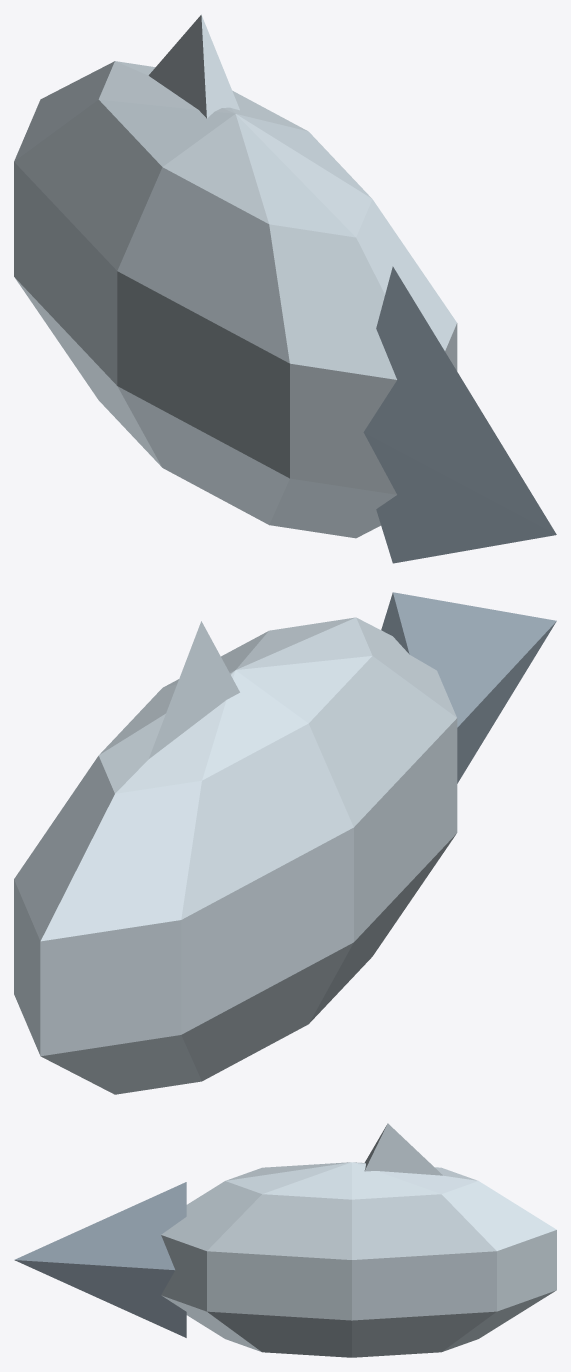
File: fish.glb
3 views of the same model, one above another, from view 1: azimuth 30°, elevation 25°; view 2: azimuth 150°, elevation 25°; view 3: azimuth 270°, elevation 25° (orthographic). The views are drawn at different scales.
Visible parts, largest first — view 1: FishBody, FishTail, FishDorsalFin; view 2: FishBody, FishTail, FishDorsalFin; view 3: FishBody, FishTail, FishDorsalFin.
Boxes of the visible parts, left/top/right/bottom form: FishBody: left=14, top=61, right=457, bottom=538; FishTail: left=363, top=266, right=556, bottom=563; FishDorsalFin: left=148, top=14, right=239, bottom=118; FishBody: left=14, top=617, right=457, bottom=1094; FishTail: left=381, top=592, right=556, bottom=783; FishDorsalFin: left=148, top=621, right=239, bottom=759; FishBody: left=161, top=1162, right=556, bottom=1357; FishTail: left=14, top=1182, right=186, bottom=1337; FishDorsalFin: left=364, top=1123, right=442, bottom=1175.
Bounding box in the file's own units: 0.02 × 0.036 × 0.0755.
